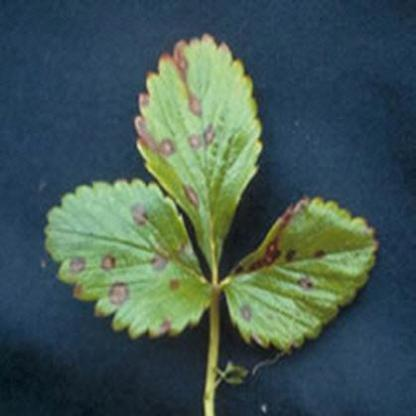Strawberry_Leaf_Spot: (132, 32, 266, 282), (42, 178, 216, 342), (223, 193, 380, 354)
